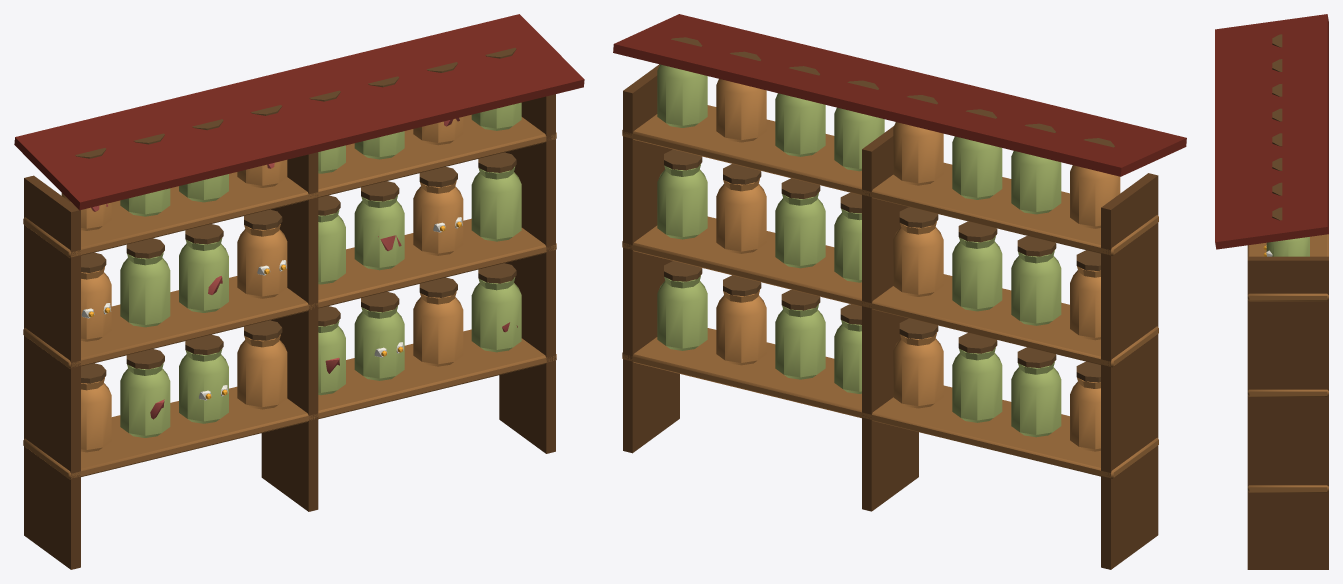
File: jar_shelf.glb
The picture shows the model from 3 angles, left to right: view 1: azimuth 30°, elevation 25°; view 2: azimuth 150°, elevation 25°; view 3: azimuth 270°, elevation 25°; orthographic projection. The views are drawn at different scales.
Visible parts, largest first — view 1: jar_shelf; view 2: jar_shelf; view 3: jar_shelf.
Boxes of the visible parts, x1=… form: jar_shelf: x1=14, y1=14, x2=584, y2=569; jar_shelf: x1=613, y1=14, x2=1186, y2=569; jar_shelf: x1=1215, y1=14, x2=1328, y2=569.
Bounding box in the file's own units: 3.1 × 2.36 × 0.6998.
